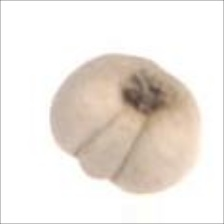L5: (71, 107, 148, 185), (115, 61, 189, 122)
L6: (49, 50, 203, 199)
